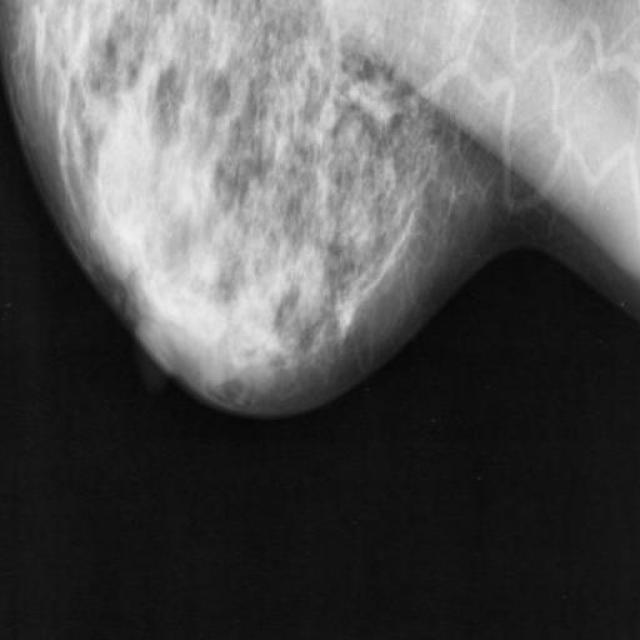cancer: (341, 62, 370, 126)
